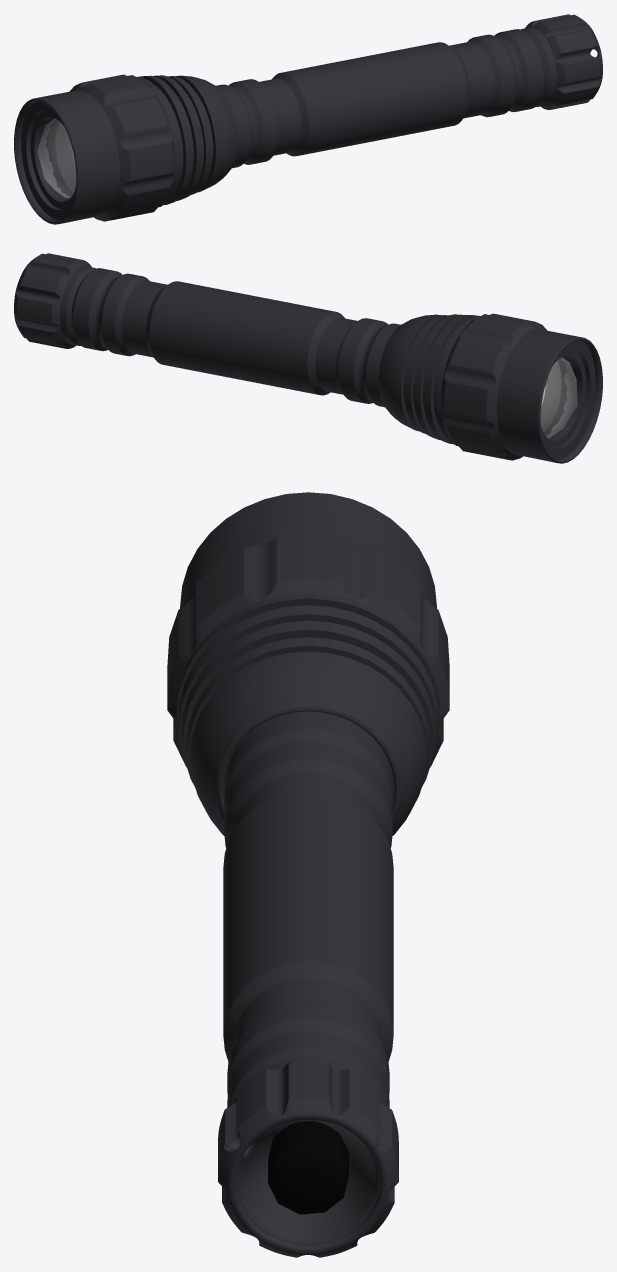
The model's file is Flashlight.glb.
The picture shows the model from 3 angles, top to bottom: view 1: azimuth 30°, elevation 25°; view 2: azimuth 150°, elevation 25°; view 3: azimuth 270°, elevation 25°; orthographic projection. The views are drawn at different scales.
Visible parts, largest first — view 1: Flash_Light_Body; view 2: Flash_Light_Body; view 3: Flash_Light_Body.
Part boxes in pixels (<box>): Flash_Light_Body: <box>14,14,602,224</box>; Flash_Light_Body: <box>14,253,602,463</box>; Flash_Light_Body: <box>167,492,449,1257</box>.
Bounding box in the file's own units: 25.54 × 5.83 × 5.76.
Materials: 8 (1 with a texture image).
